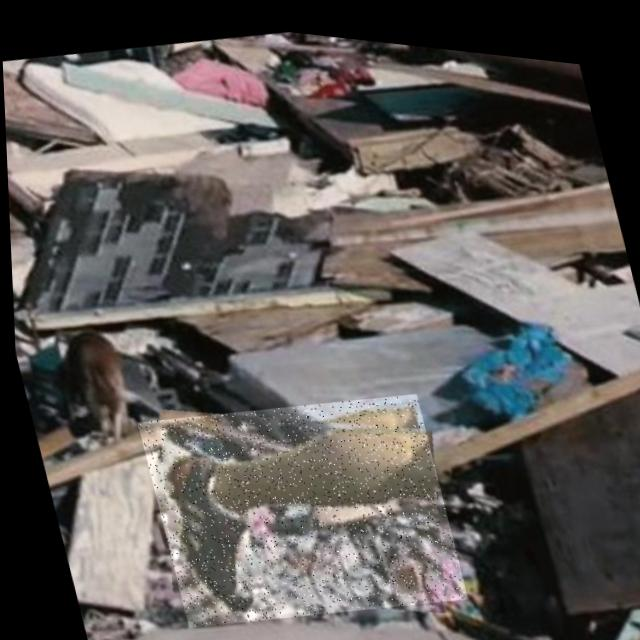Person in Rubble: (131, 359, 464, 640)
